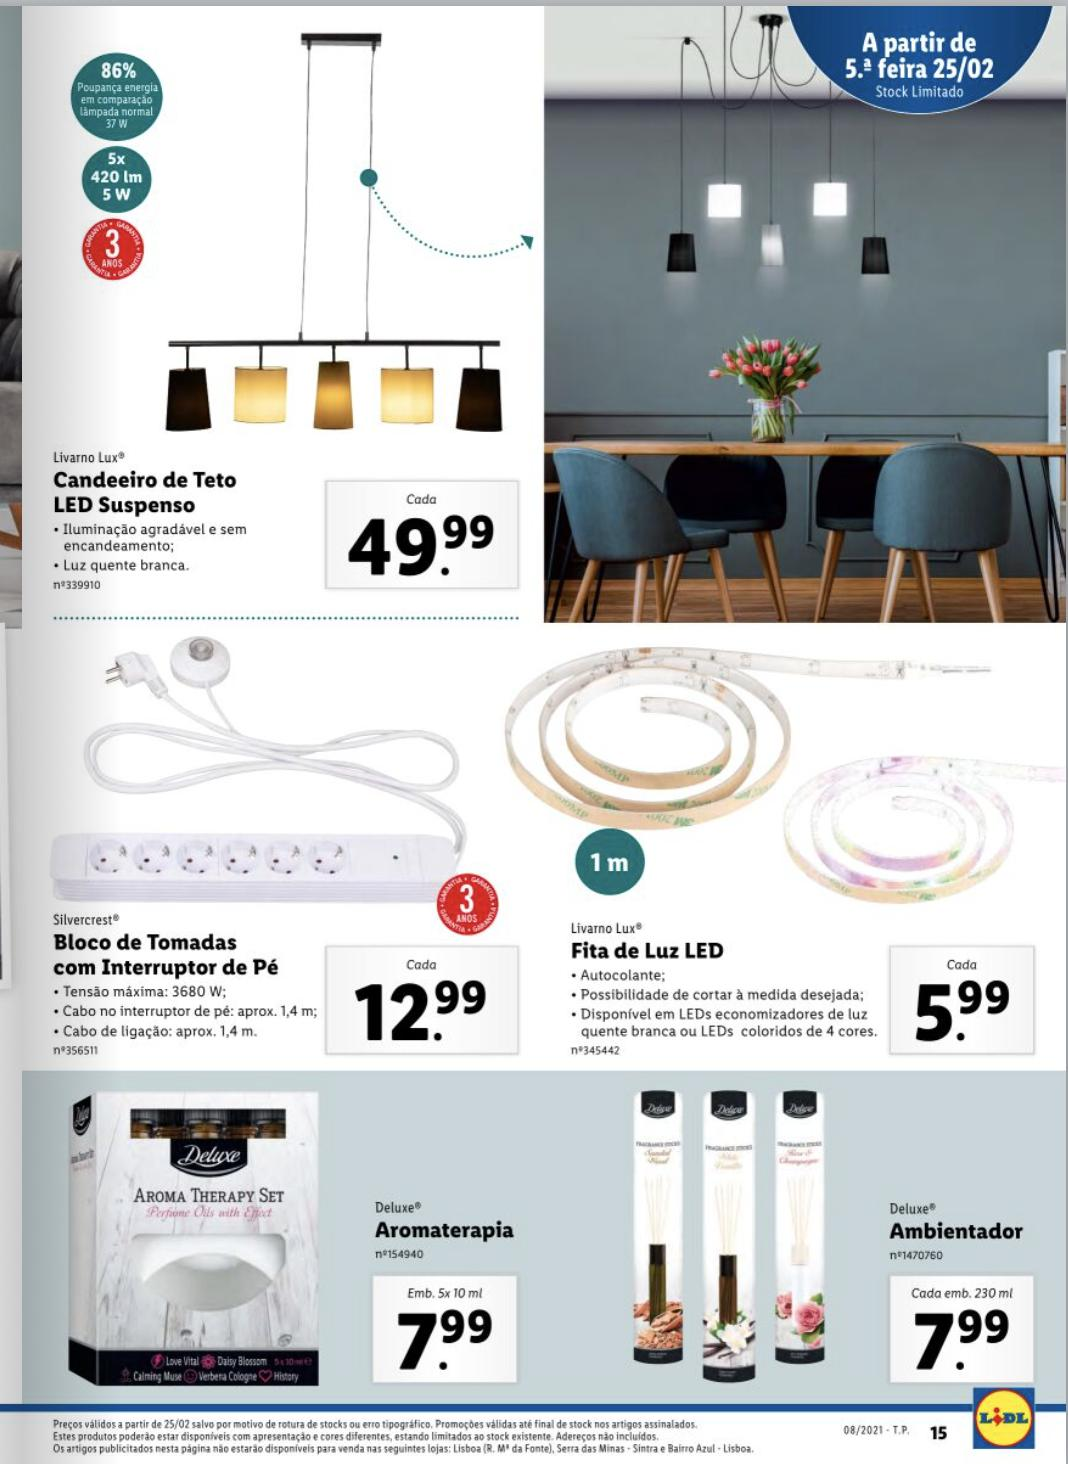name: (48, 929, 290, 982), (45, 461, 243, 518), (564, 933, 728, 967), (370, 1215, 517, 1249), (879, 1220, 1028, 1246)
price: (339, 506, 499, 584), (352, 978, 492, 1049), (904, 975, 1013, 1055), (906, 1309, 1017, 1376), (394, 1304, 501, 1373)
product: (41, 9, 523, 612), (499, 627, 1057, 1068), (17, 629, 529, 1064), (55, 1085, 564, 1396), (579, 1089, 1052, 1395)
